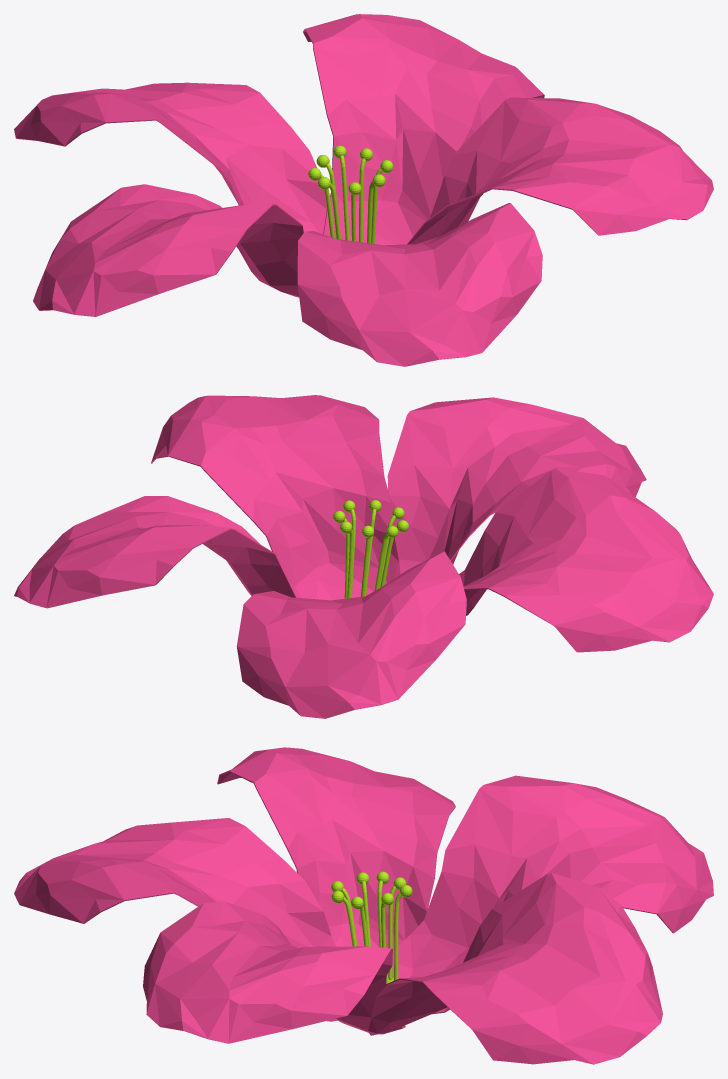
Rendered from fleur.FBX.
3 renders of one model, top to bottom at view 1: azimuth 30°, elevation 25°; view 2: azimuth 150°, elevation 25°; view 3: azimuth 270°, elevation 25°, orthographic. The views are drawn at different scales.
Visible parts, largest first — view 1: Object098; view 2: Object098; view 3: Object098.
Part boxes in pixels (x1,y1,x2,y2): Object098: (14,14,713,366); Object098: (14,395,713,718); Object098: (14,747,713,1064).
Size of the model in its own units: 60.01 by 16.61 by 61.61.
